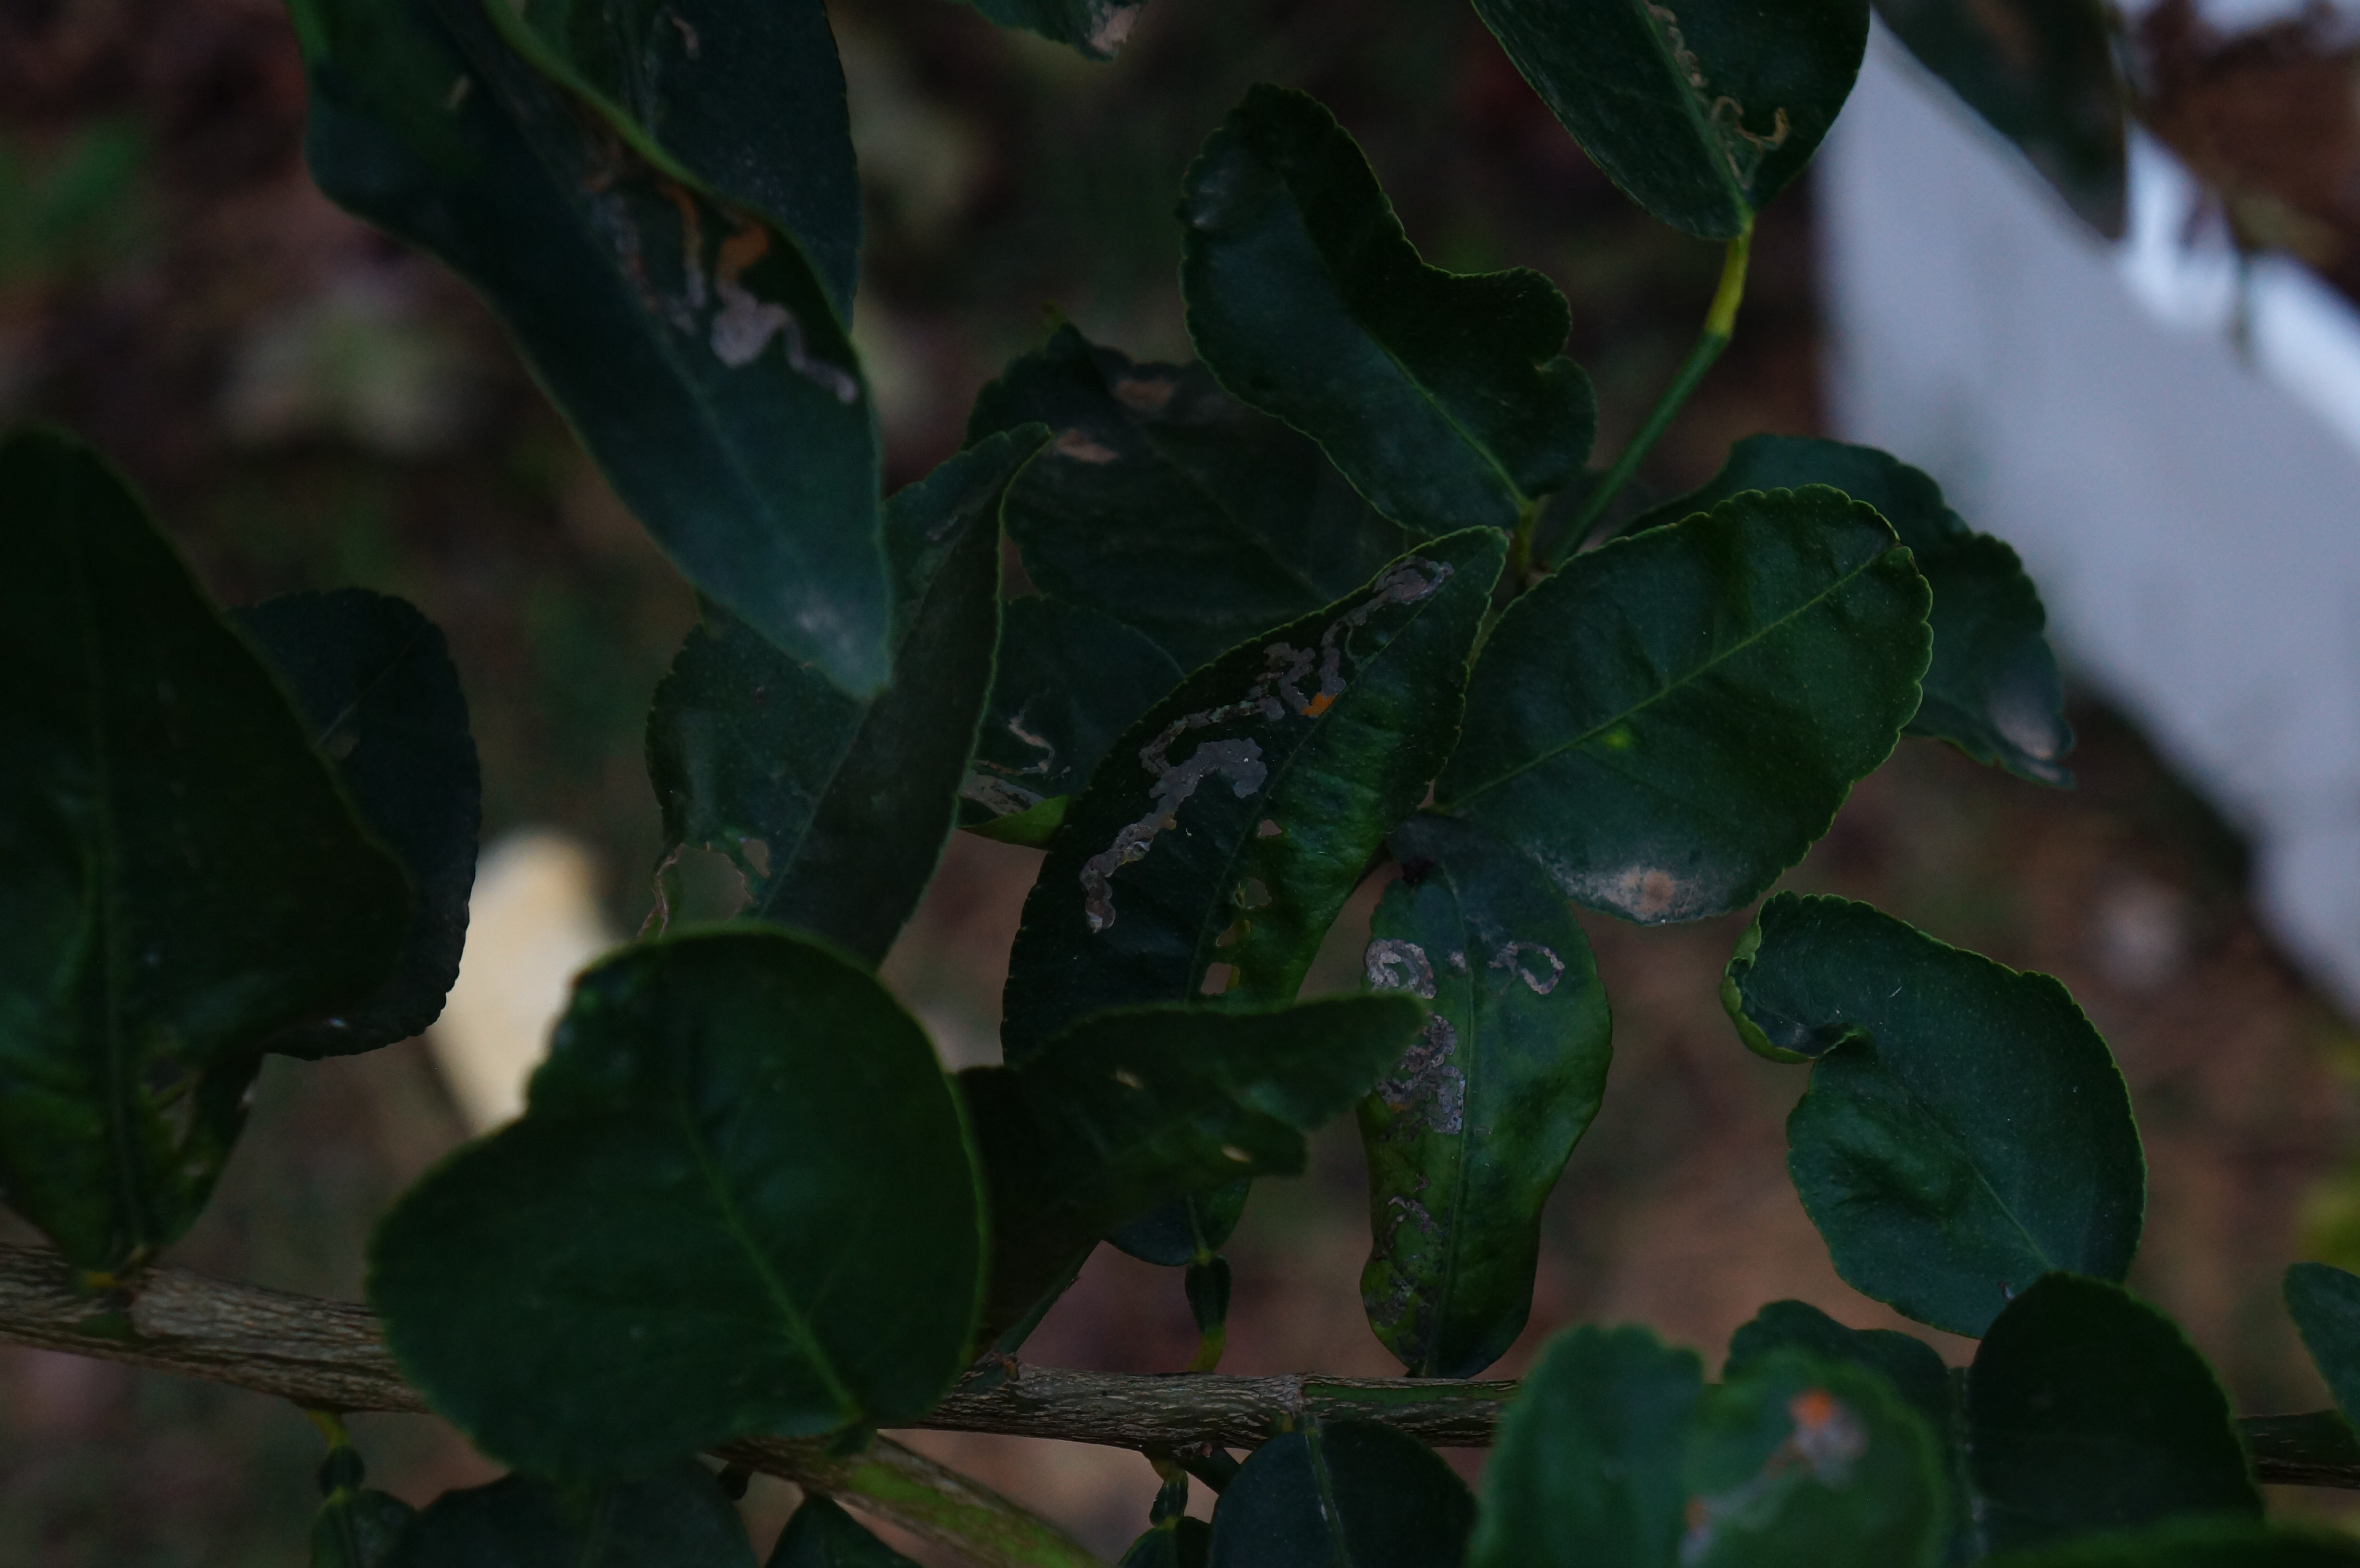damage: (1069, 518, 1461, 947), (1359, 922, 1480, 1162), (1496, 917, 1580, 1006)
